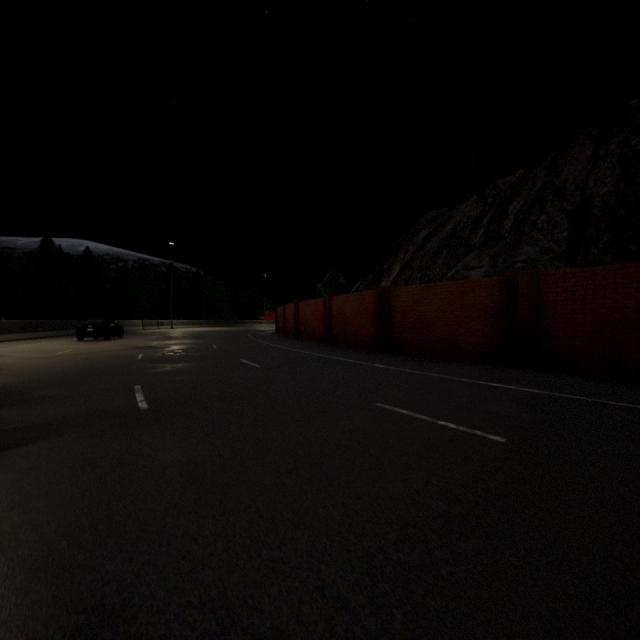Vehicle: (76, 319, 124, 341), (258, 311, 275, 320)
